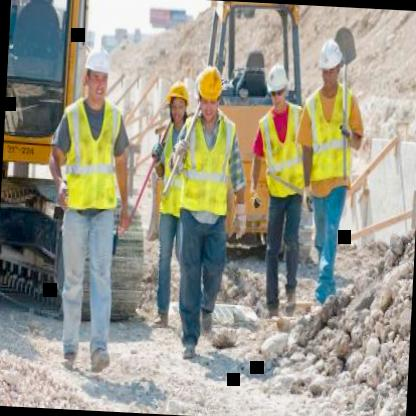helmet: (80, 38, 115, 108), (315, 30, 347, 88), (193, 61, 224, 120), (263, 58, 290, 110), (164, 78, 192, 126)
